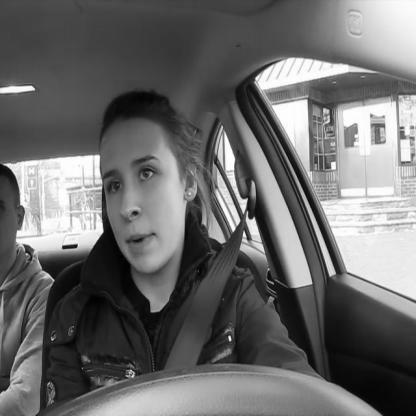seatbelt: (87, 84, 270, 416)
